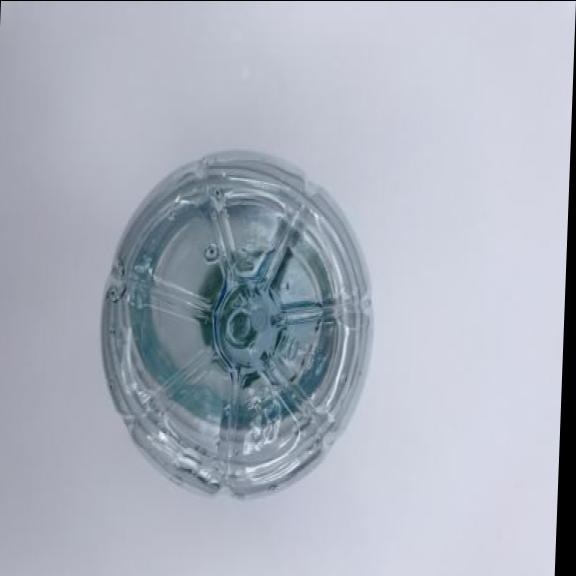Plastik: (85, 137, 387, 504)
